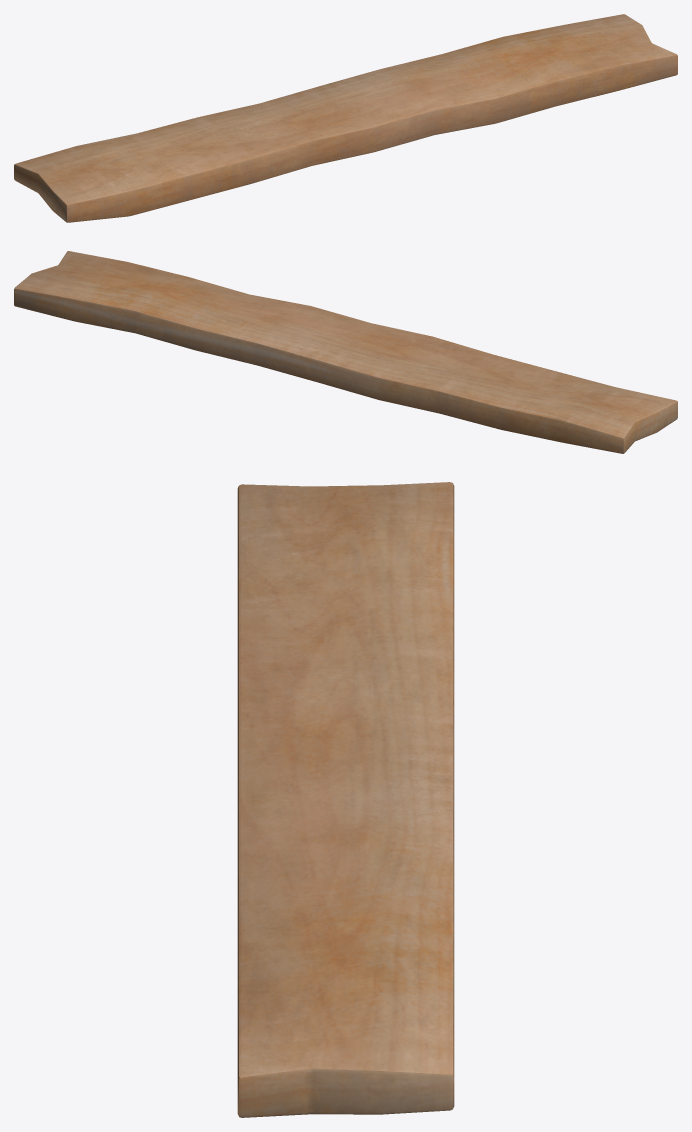
The model's file is board.fbx.
The picture shows the model from 3 angles, top to bottom: view 1: azimuth 30°, elevation 25°; view 2: azimuth 150°, elevation 25°; view 3: azimuth 270°, elevation 25°; orthographic projection. The views are drawn at different scales.
Parts seen in each view (by area): view 1: board; view 2: board; view 3: board.
Part boxes in pixels (x1,y1,x2,y2): board: (14, 14, 677, 222); board: (14, 251, 677, 453); board: (237, 482, 454, 1117).
Bounding box in the file's own units: 169 × 11.02 × 25.88.
